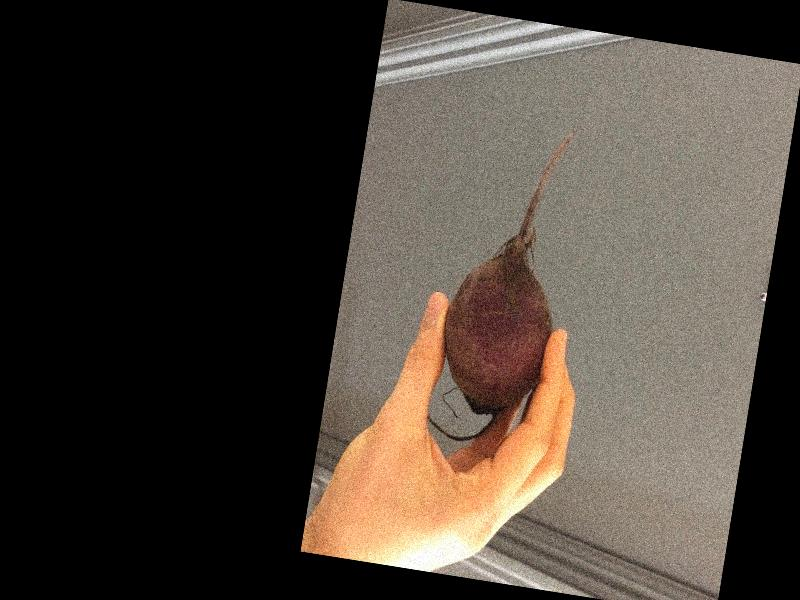Beet: (425, 108, 582, 450)
